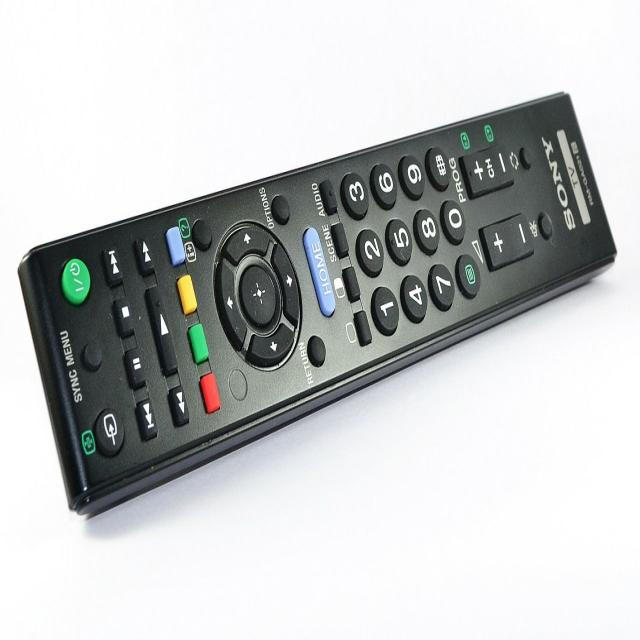remote: (26, 93, 615, 515)
